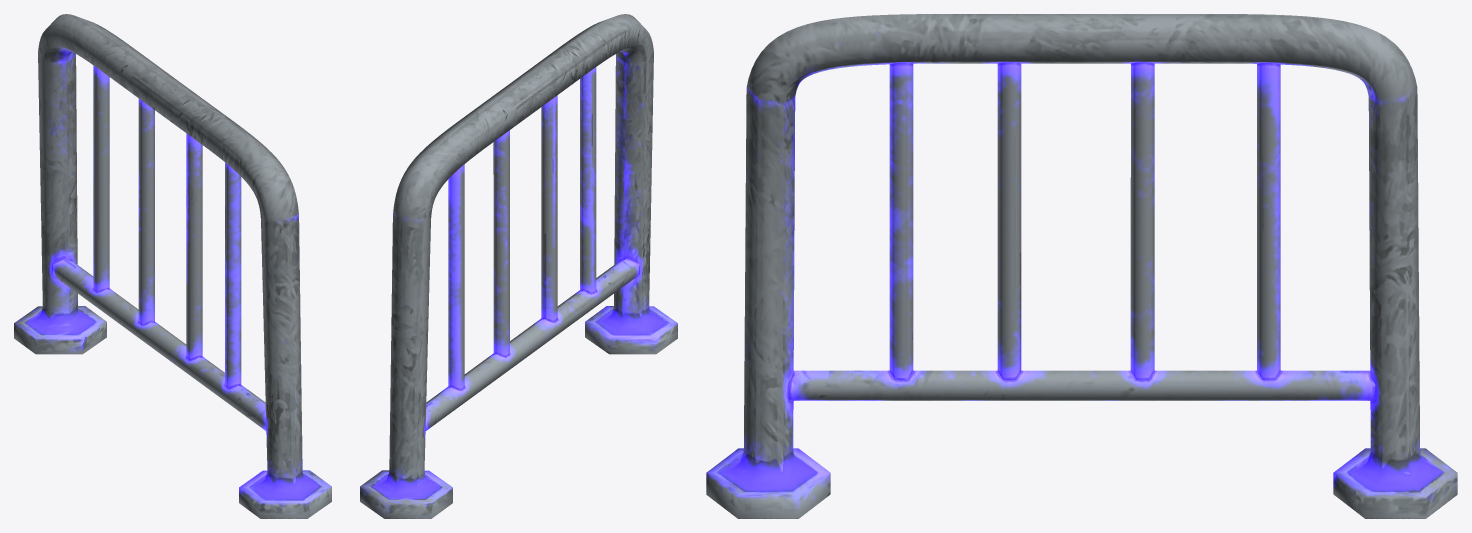
Rendered from valla-contencion.fbx.
The picture shows the model from 3 angles, left to right: view 1: azimuth 30°, elevation 25°; view 2: azimuth 150°, elevation 25°; view 3: azimuth 270°, elevation 25°; orthographic projection. The views are drawn at different scales.
Parts seen in each view (by area): view 1: valla_contencion; view 2: valla_contencion; view 3: valla_contencion.
Boxes of the visible parts, x1=… form: valla_contencion: x1=14, y1=14, x2=331, y2=518; valla_contencion: x1=360, y1=14, x2=677, y2=518; valla_contencion: x1=706, y1=14, x2=1457, y2=518.
Size of what is drawn, in the model's own units: 10.13 by 46.47 by 66.27.
